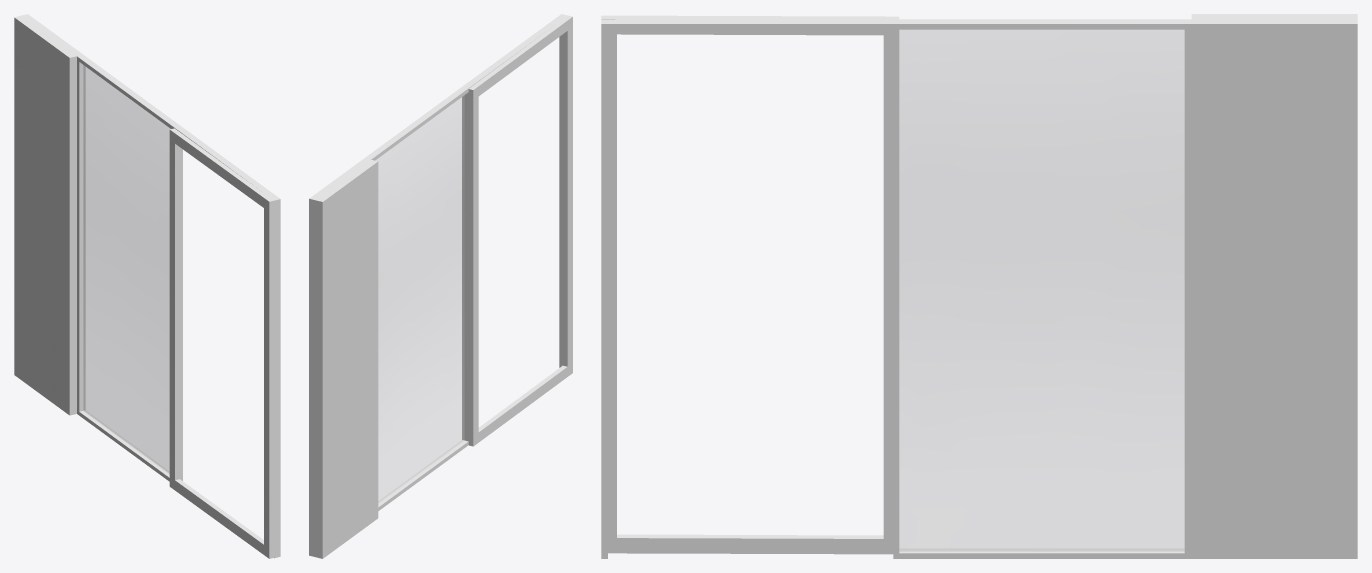
File: Door_4.obj
The picture shows the model from 3 angles, left to right: view 1: azimuth 30°, elevation 25°; view 2: azimuth 150°, elevation 25°; view 3: azimuth 270°, elevation 25°; orthographic projection. The views are drawn at different scales.
Visible parts, largest first — view 1: Mesh55_Group59_Group58_Group56_Group52_Model, Mesh39_Group31_Model, Mesh53_Group55_Group53_Group52_Model.1; view 2: Mesh55_Group59_Group58_Group56_Group52_Model, Mesh39_Group31_Model, Mesh53_Group55_Group53_Group52_Model.1; view 3: Mesh55_Group59_Group58_Group56_Group52_Model, Mesh39_Group31_Model, Mesh53_Group55_Group53_Group52_Model.1.
Part boxes in pixels (x1,y1,x2,y2): Mesh55_Group59_Group58_Group56_Group52_Model: (83,65,169,472); Mesh39_Group31_Model: (14,14,82,415); Mesh53_Group55_Group53_Group52_Model.1: (77,54,280,558); Mesh55_Group59_Group58_Group56_Group52_Model: (375,95,464,502); Mesh39_Group31_Model: (309,158,378,558); Mesh53_Group55_Group53_Group52_Model.1: (365,14,572,510); Mesh55_Group59_Group58_Group56_Group52_Model: (899,30,1184,551); Mesh39_Group31_Model: (1191,14,1357,558); Mesh53_Group55_Group53_Group52_Model.1: (601,15,1191,558).
Size of the model in its own units: 4.8 by 120 by 154.
Materials: 3 (1 with a texture image).
